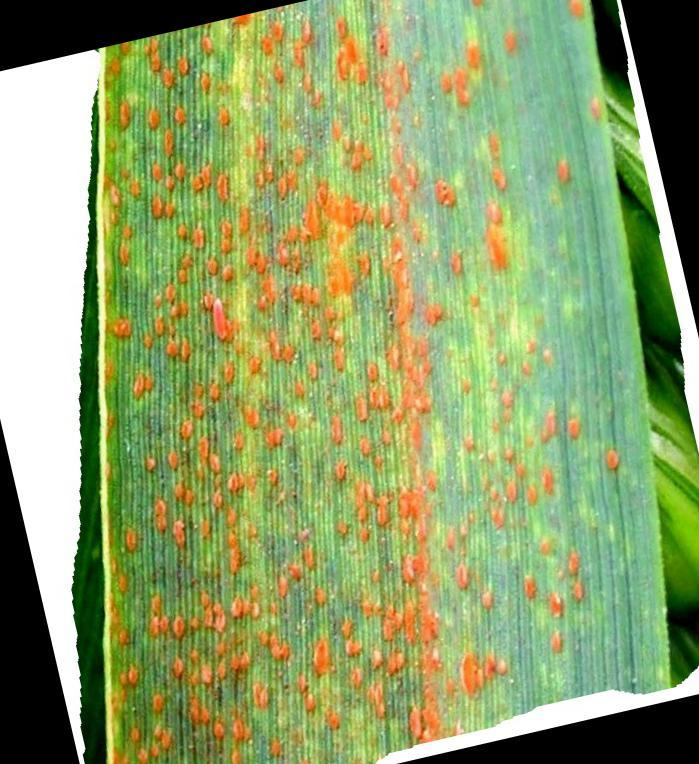Wheat: (104, 43, 590, 633), (104, 642, 513, 753)
